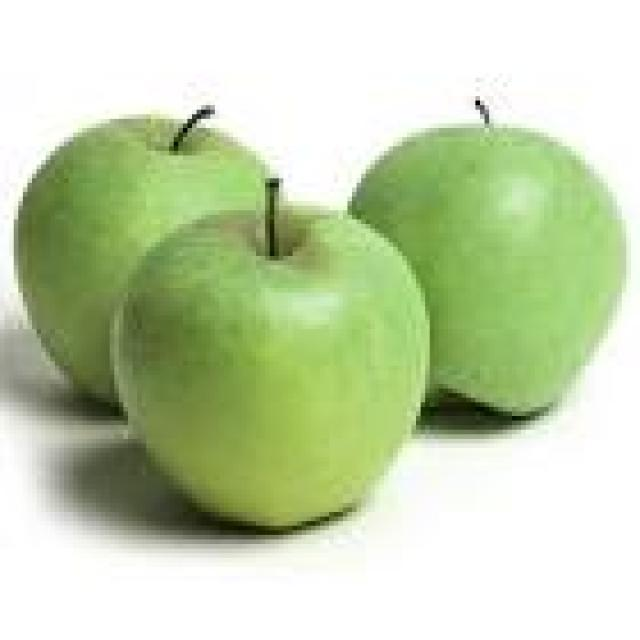apple: (115, 183, 429, 530), (352, 101, 626, 415), (14, 110, 265, 402)
